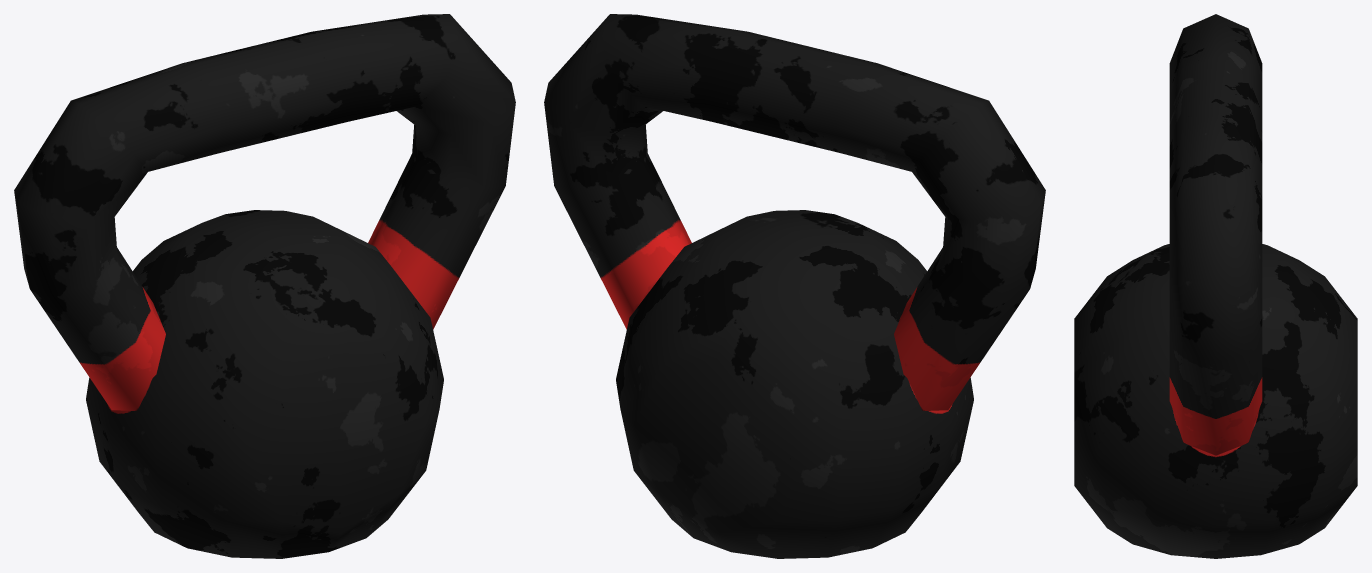
The model's file is Little_Kettlebell.fbx.
3 renders of one model, left to right at view 1: azimuth 30°, elevation 25°; view 2: azimuth 150°, elevation 25°; view 3: azimuth 270°, elevation 25°, orthographic. The views are drawn at different scales.
Parts seen in each view (by area): view 1: Little_Kettlebell; view 2: Little_Kettlebell; view 3: Little_Kettlebell.
Boxes of the visible parts, x1,y1,x2,y2 form: Little_Kettlebell: (14, 14, 515, 558); Little_Kettlebell: (544, 14, 1045, 558); Little_Kettlebell: (1074, 14, 1357, 558).
Bounding box in the file's own units: 567 × 504 × 306.
Materials: 1 (1 with a texture image).
